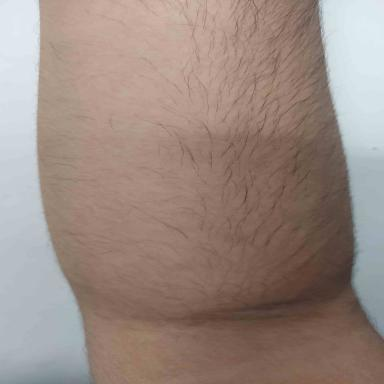normal skin: (39, 0, 383, 384)
